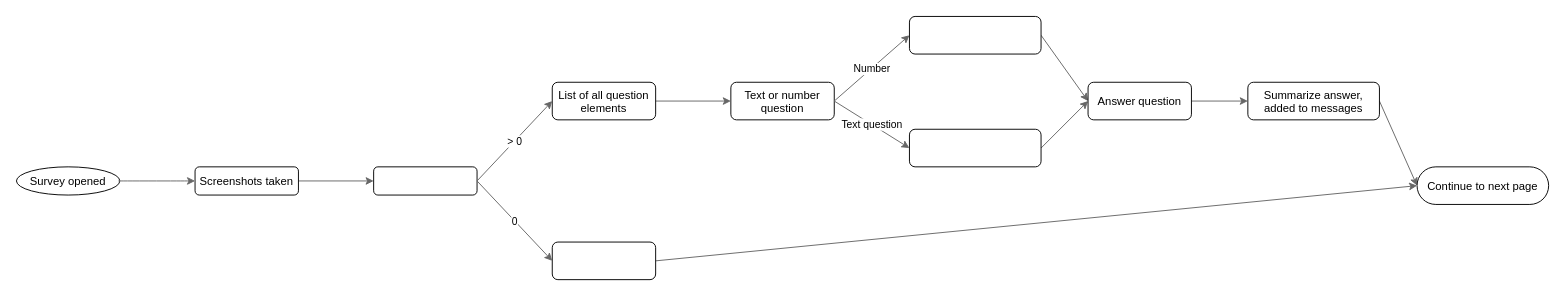
Image size: 1565x296. Some labels were removed from this diagram. The shapes that lost their labels are listed below. From the top down, each one's centre as x and y in pixels, then its label:
At [975,35]: "Answer number question with Openai API".
At [975,147]: "Answer text question with ChatGPT".
At [425,180]: "# of questions".
At [603,260]: "Screenshot added to conversation".
